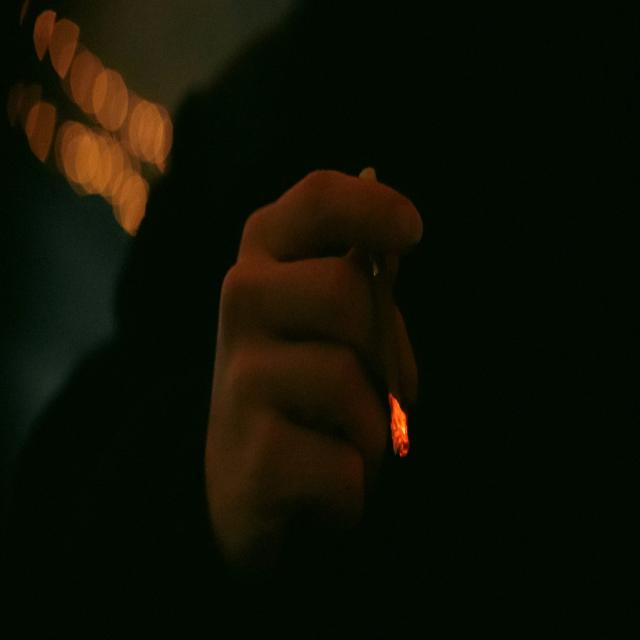fire: (388, 392, 409, 457)
